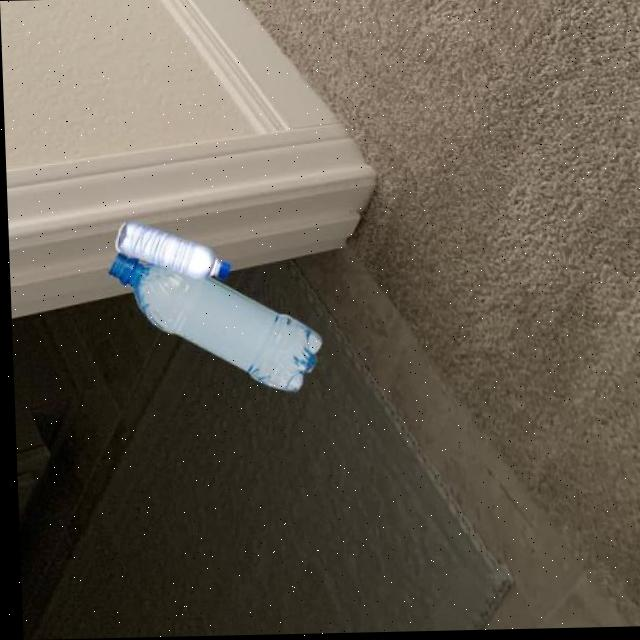bottle: (103, 249, 322, 398), (110, 219, 230, 285)
